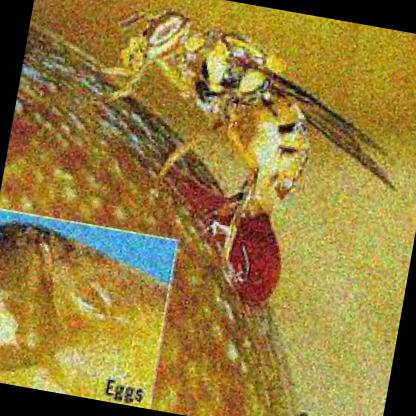fruit fly: (77, 6, 394, 218)
